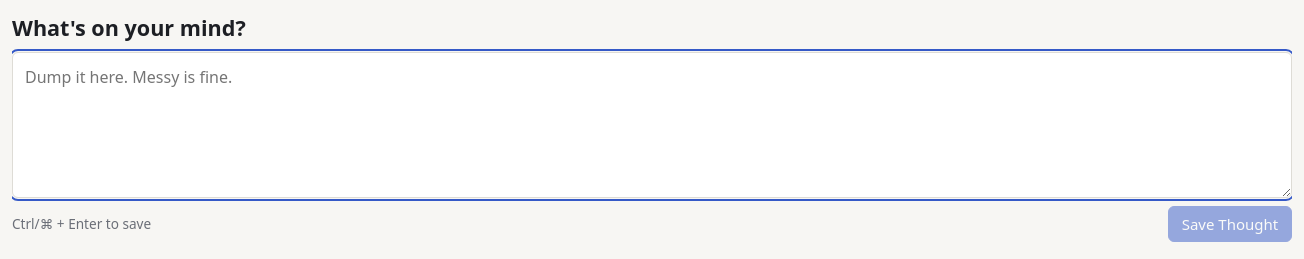
Test: CaptureBox › keeps the text when the save fails
Type "don't lose me" into the text box labelled "What's on your mind?" at (652, 125), box [12,52,1292,198]
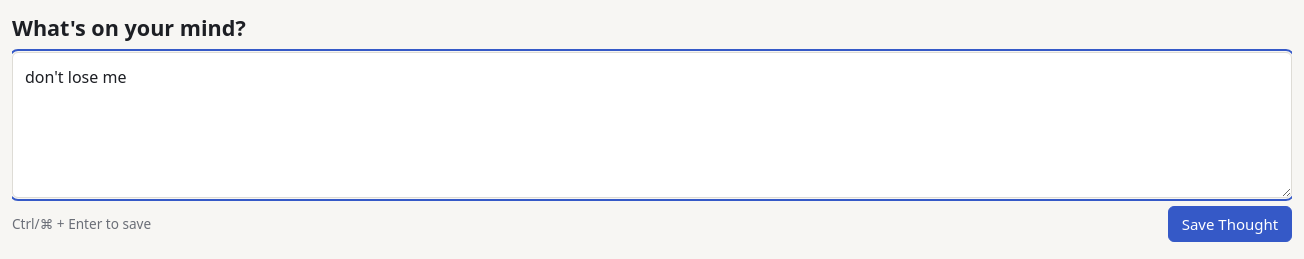
Click the button "Save Thought" at (1230, 224), box [1168,206,1292,242]
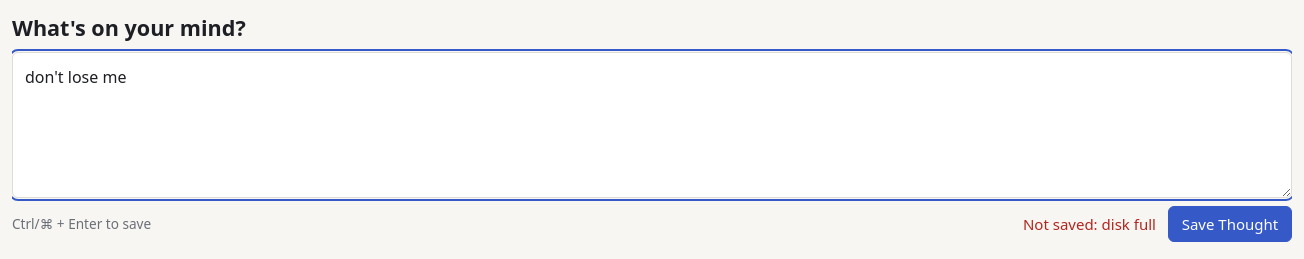
Now the message reads "Not saved: disk full", box [1023,213,1156,236]
